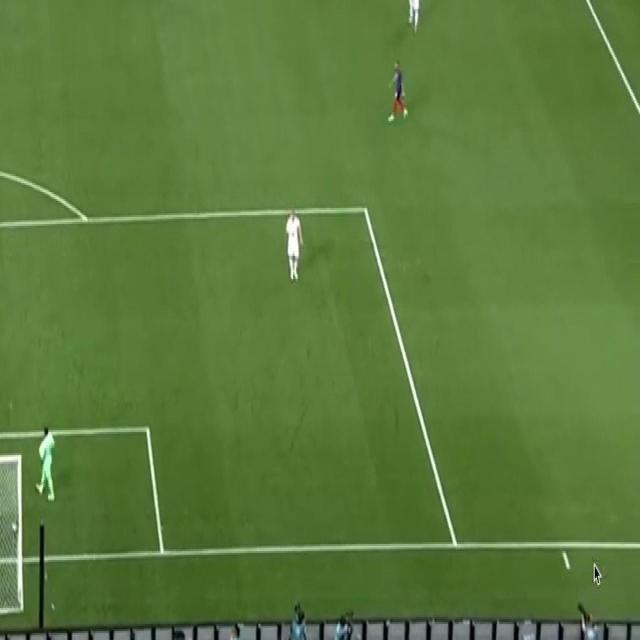Keeper: (33, 421, 57, 503)
another-player: (386, 58, 410, 126)
player-white: (283, 208, 305, 284), (406, 0, 423, 38)
